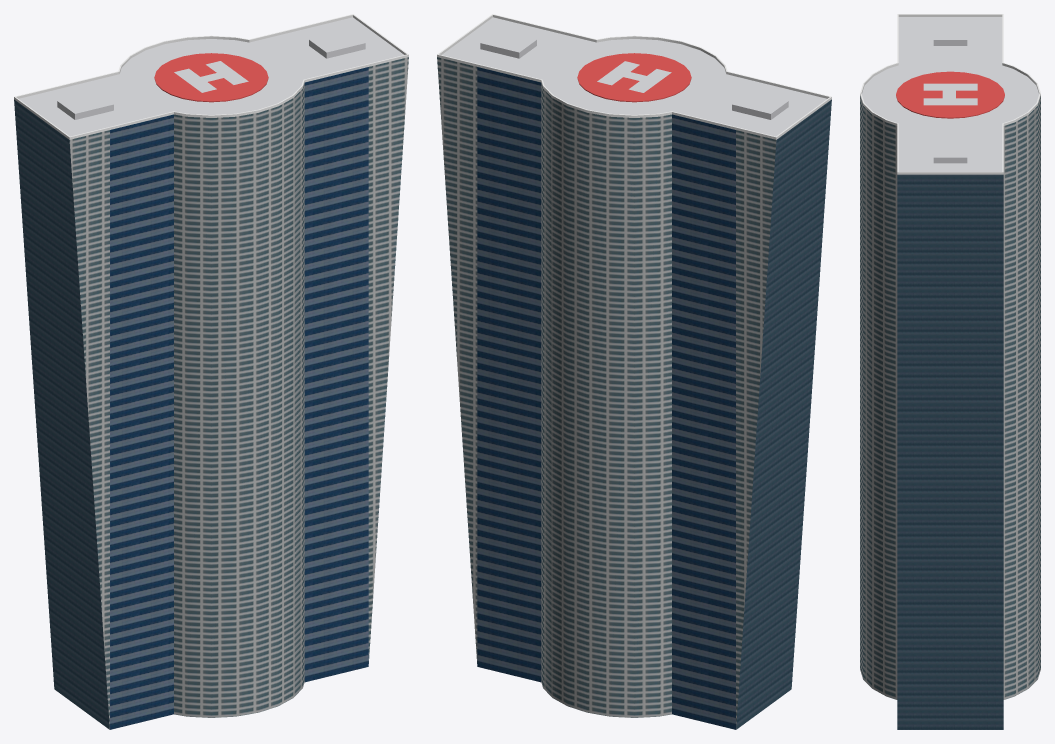
Rendered from Ogoshi-Corporate-Plaza.fbx.
3 views of the same model, side by side, from view 1: azimuth 30°, elevation 25°; view 2: azimuth 150°, elevation 25°; view 3: azimuth 270°, elevation 25° (orthographic). The views are drawn at different scales.
Parts seen in each view (by area): view 1: Model, H1; view 2: Model, H1; view 3: Model, H1.
Part boxes in pixels (x1,y1,x2,y2): Model: (14,14,408,729); H1: (174,61,248,92); Model: (437,14,831,729); H1: (597,61,671,92); Model: (860,14,1040,729); H1: (923,83,977,105).
Bounding box in the file's own units: 173 × 296 × 83.68.
